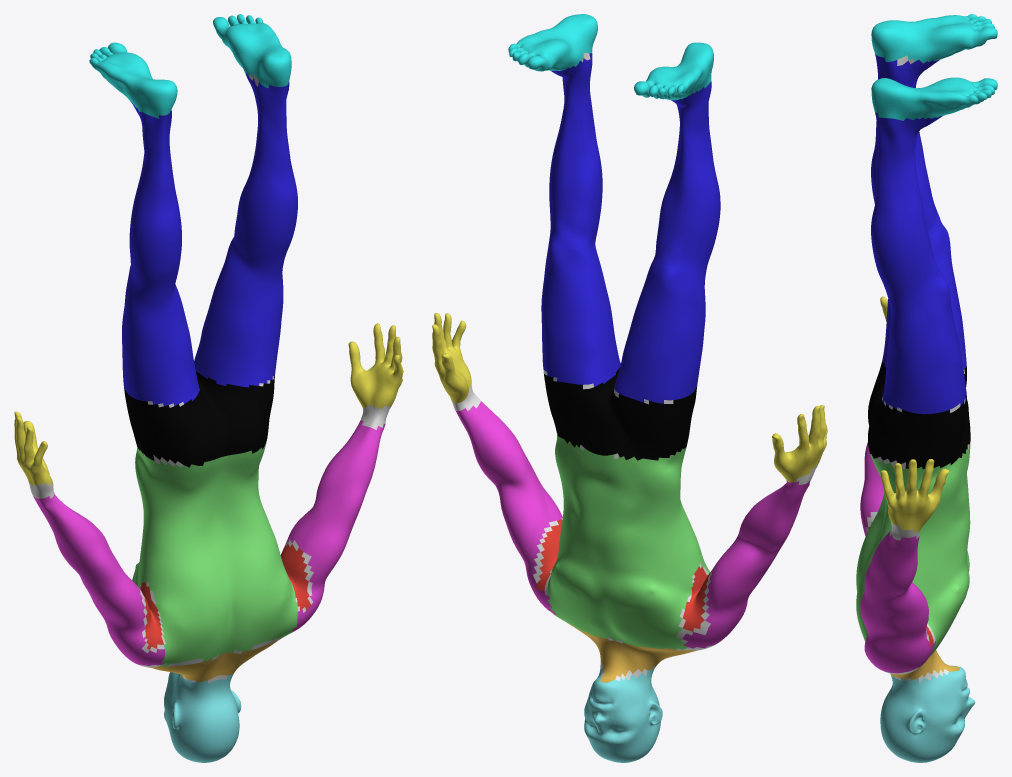
File: man.gltf
3 views of the same model, side by side, from view 1: azimuth 30°, elevation 25°; view 2: azimuth 150°, elevation 25°; view 3: azimuth 270°, elevation 25° (orthographic).
Visible parts, largest first — view 1: Legs, Chest & Abdomen, Arms, Private, feet, Head, Hands, Unknown, UnderArm, Neck; view 2: Legs, Chest & Abdomen, Arms, Private, feet, Head, Hands, Unknown, Neck, UnderArm; view 3: Legs, Chest & Abdomen, Arms, feet, Head, Private, Hands, Unknown, Neck.
Part boxes in pixels (box(x1,y1,x2,y2)): Legs: box(122, 73, 297, 406); Chest & Abdomen: box(132, 445, 297, 666); Arms: box(33, 420, 385, 665); Private: box(124, 371, 274, 467); feet: box(89, 14, 291, 118); Head: box(164, 672, 241, 762); Hands: box(14, 323, 403, 486); Unknown: box(29, 73, 391, 683); UnderArm: box(140, 543, 310, 649); Neck: box(146, 636, 284, 682); Legs: box(541, 53, 720, 403); Chest & Abdomen: box(547, 432, 709, 649); Arms: box(453, 401, 810, 648); Private: box(544, 363, 696, 460); feet: box(508, 14, 713, 100); Head: box(584, 665, 662, 762); Hands: box(432, 313, 827, 482); Unknown: box(451, 52, 819, 680); Neck: box(568, 623, 702, 682); UnderArm: box(536, 519, 710, 631); Legs: box(871, 54, 966, 414); Chest & Abdomen: box(856, 443, 970, 656); Arms: box(860, 442, 935, 673); feet: box(871, 14, 997, 120); Head: box(880, 665, 975, 762); Private: box(868, 362, 970, 469); Hands: box(880, 296, 949, 532); Unknown: box(865, 55, 968, 683); Neck: box(891, 650, 959, 679).
Bounding box in the file's own units: 16.29 × 28.91 × 5.25.
